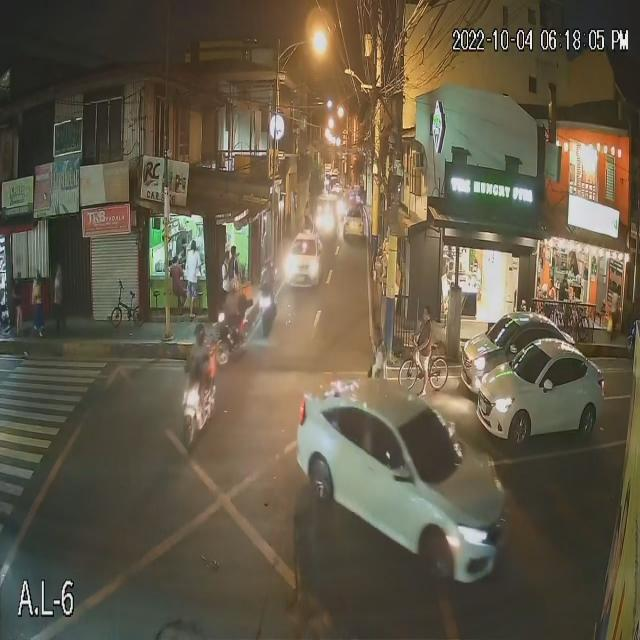helmet: (189, 326, 207, 342)
motorcycle: (181, 386, 223, 442), (251, 292, 288, 331)
rider: (190, 346, 205, 408)
